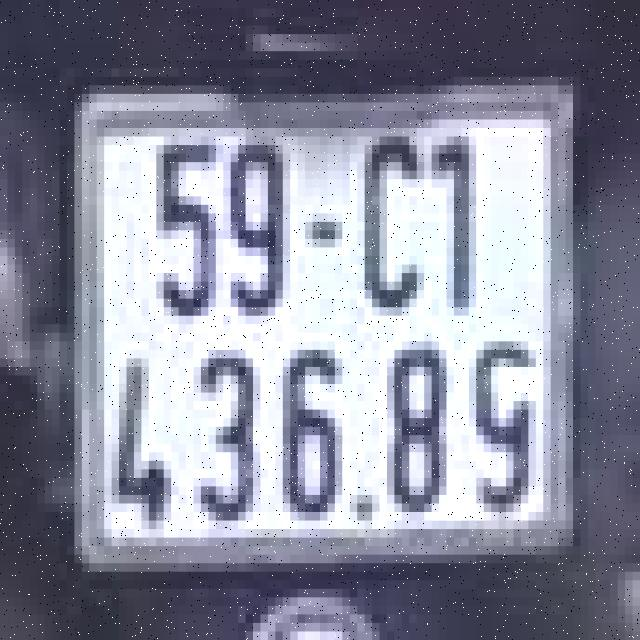1: (432, 124, 476, 320)
3: (190, 337, 264, 533)
4: (93, 337, 182, 542)
5: (145, 124, 227, 337)
6: (275, 332, 350, 538)
8: (372, 320, 454, 525)
9: (458, 324, 554, 529), (219, 132, 309, 329)
C: (357, 128, 439, 324)
